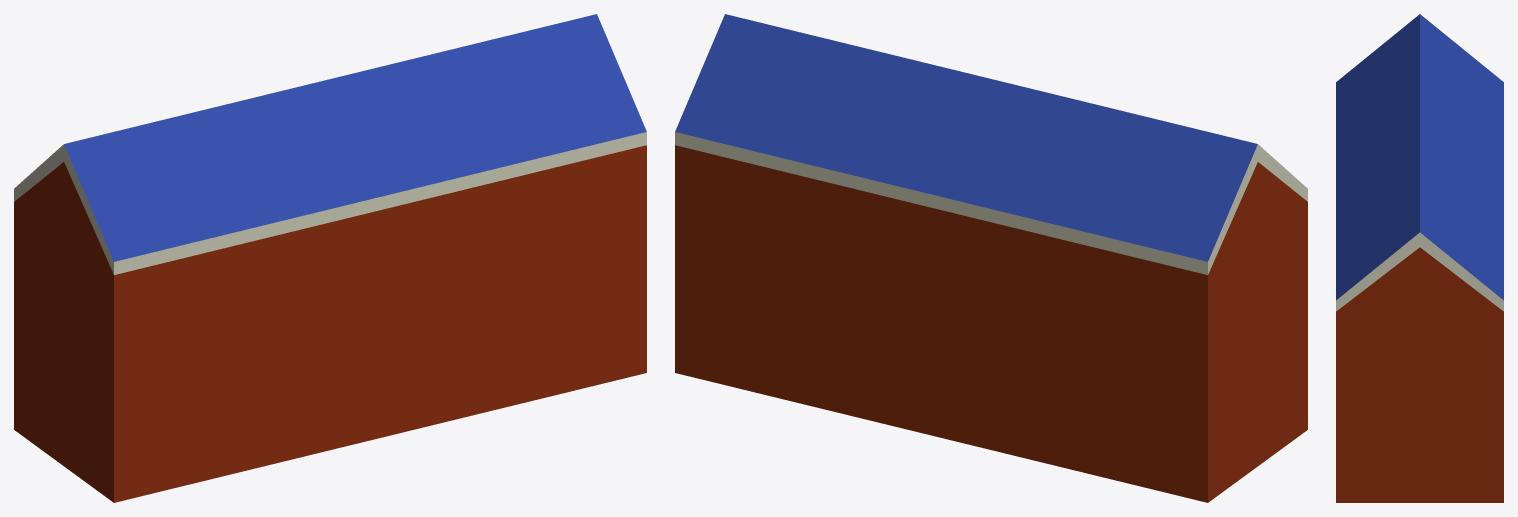
File: Bank.fbx
The picture shows the model from 3 angles, left to right: view 1: azimuth 30°, elevation 25°; view 2: azimuth 150°, elevation 25°; view 3: azimuth 270°, elevation 25°; orthographic projection. The views are drawn at different scales.
Parts seen in each view (by area): view 1: Bank; view 2: Bank; view 3: Bank.
Part boxes in pixels (<box>): Bank: <box>14,14,646,502</box>; Bank: <box>675,14,1307,502</box>; Bank: <box>1336,14,1503,502</box>.
Bounding box in the file's own units: 350 × 203 × 114.
